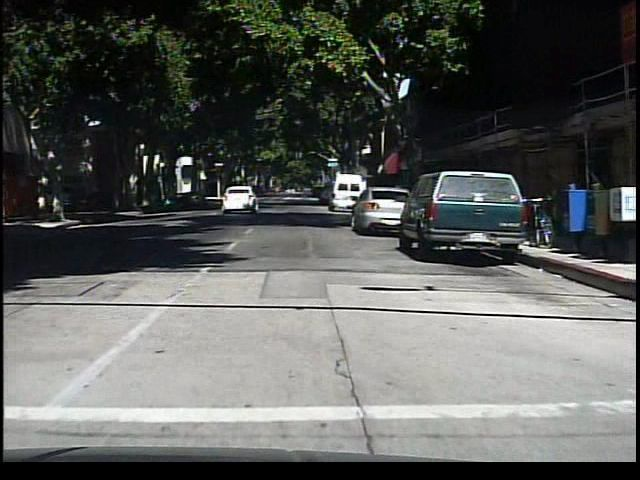person: (50, 178, 68, 221), (294, 178, 313, 206)
